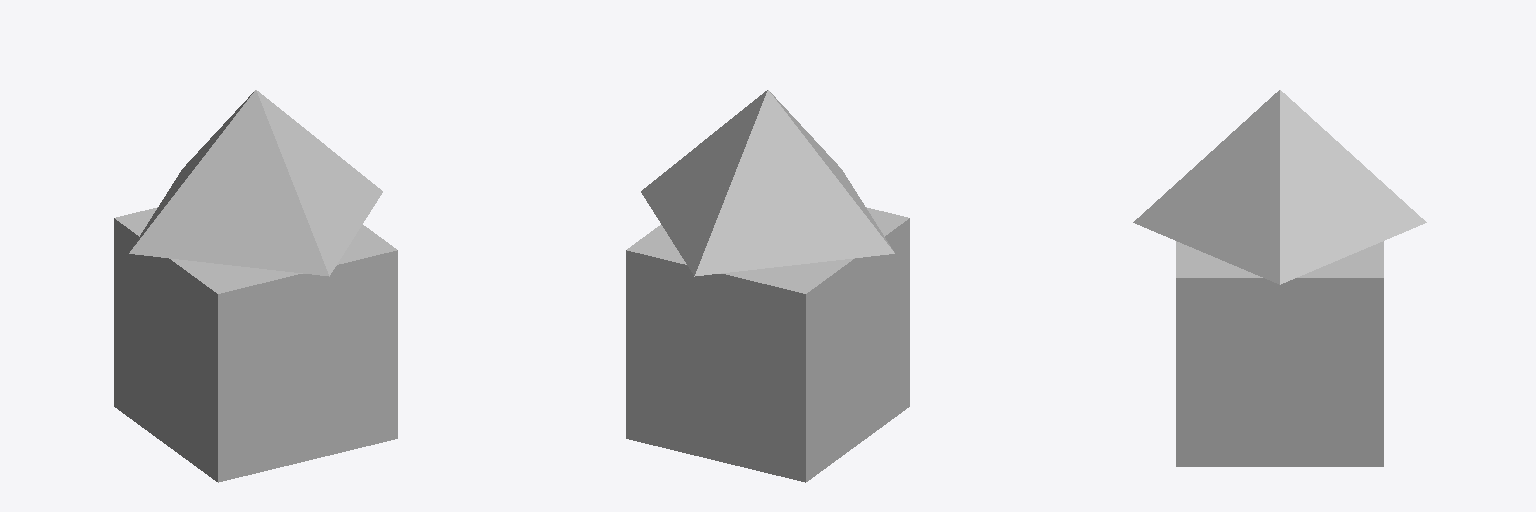
The picture shows the model from 3 angles: view 1: azimuth 30°, elevation 25°; view 2: azimuth 150°, elevation 25°; view 3: azimuth 270°, elevation 25°; orthographic projection.
Parts seen in each view (by area): view 1: pCube1, pPyramid1; view 2: pCube1, pPyramid1; view 3: pCube1, pPyramid1.
Part boxes in pixels (left/top/right/bottom): pCube1: left=114, top=207, right=397, bottom=482; pPyramid1: left=129, top=90, right=382, bottom=276; pCube1: left=626, top=207, right=909, bottom=482; pPyramid1: left=641, top=90, right=894, bottom=276; pCube1: left=1176, top=241, right=1383, bottom=466; pPyramid1: left=1133, top=90, right=1426, bottom=284.
Size of the model in its own units: 1.41 by 1.77 by 1.41.